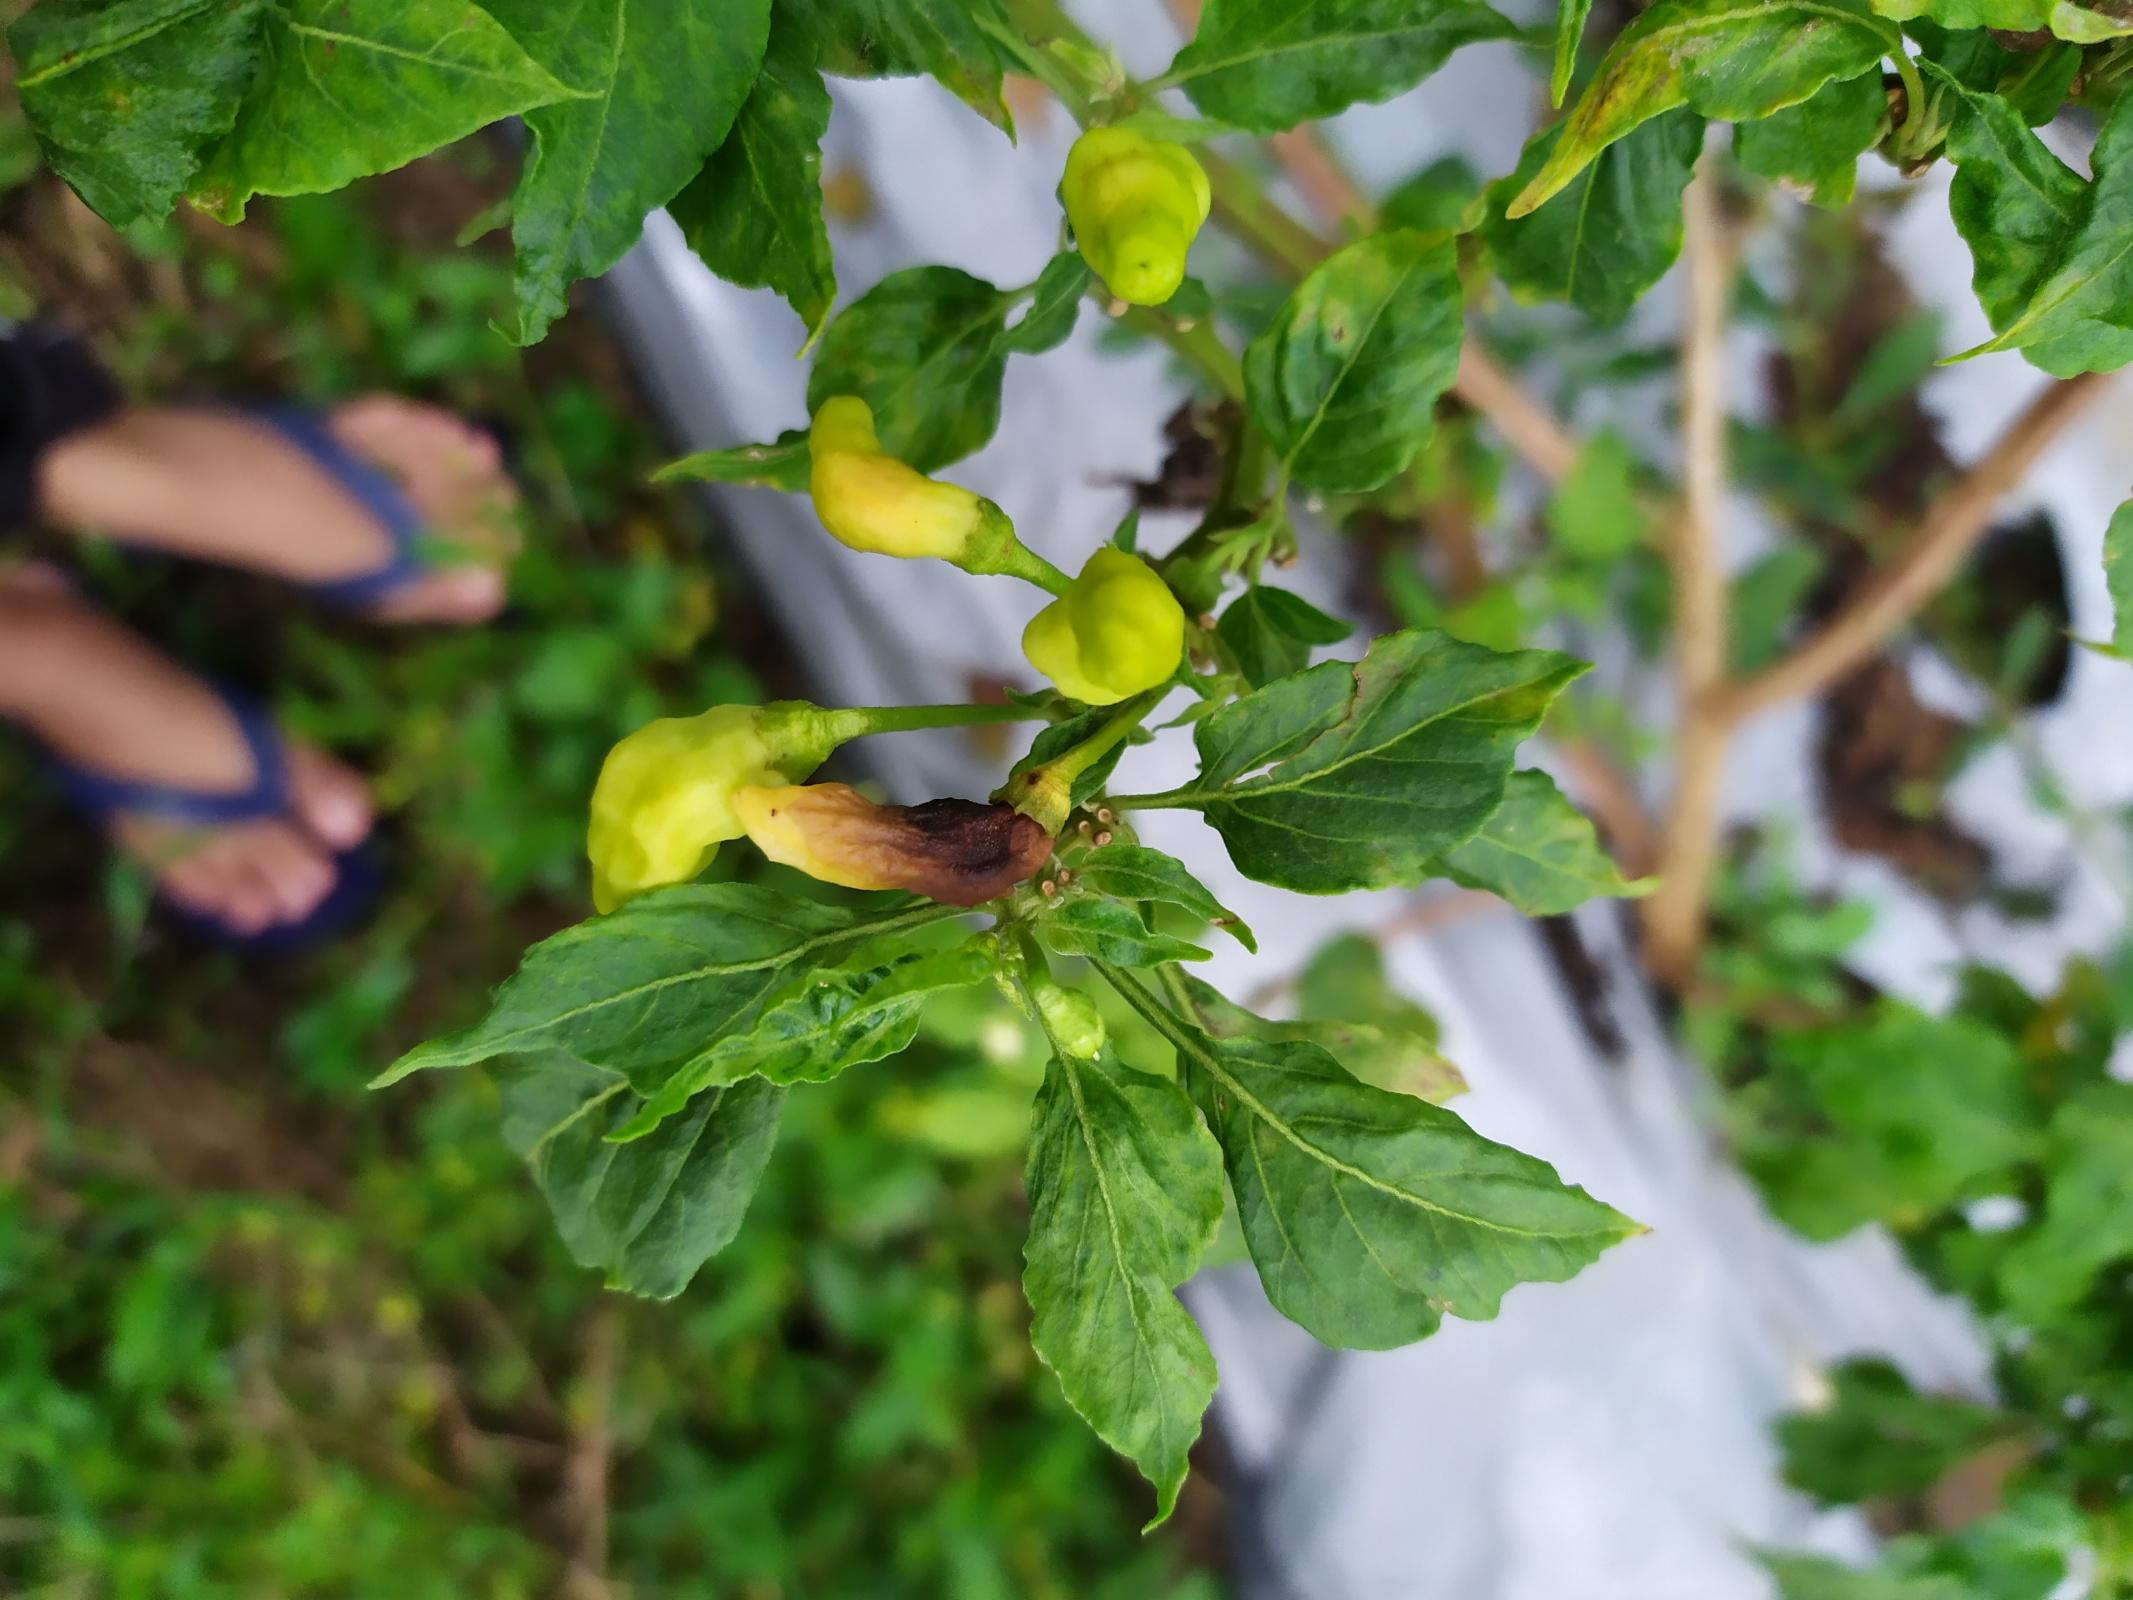antraknosa: (731, 780, 1054, 904)
cabai_normal: (585, 699, 830, 919), (808, 393, 998, 571), (1064, 128, 1215, 308), (1022, 548, 1187, 704)
